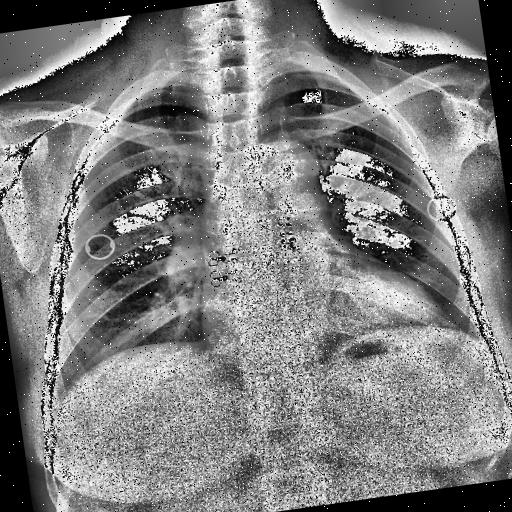0- Aortic enlargement: (239, 132, 326, 205), (246, 134, 326, 208), (256, 138, 328, 220)
3- Cardiomegaly: (194, 258, 462, 372), (198, 275, 456, 381), (198, 280, 449, 362)
